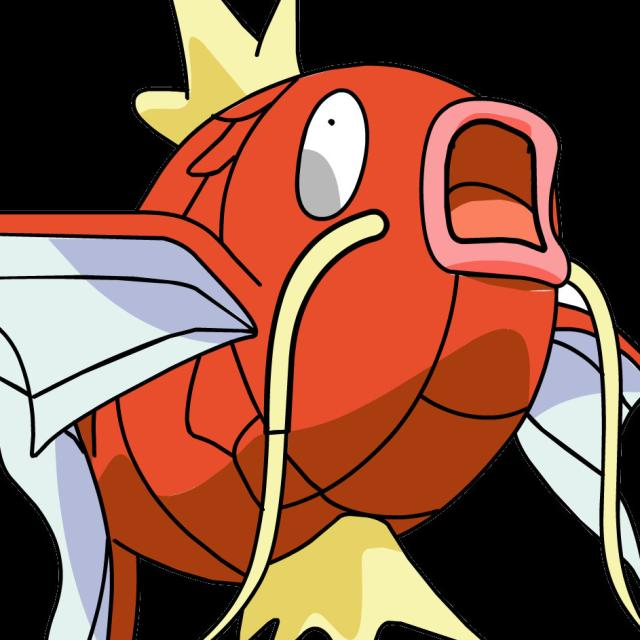Magikarp: (0, 63, 600, 575)
